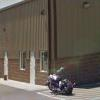Motorcycle: (34, 63, 82, 100)
